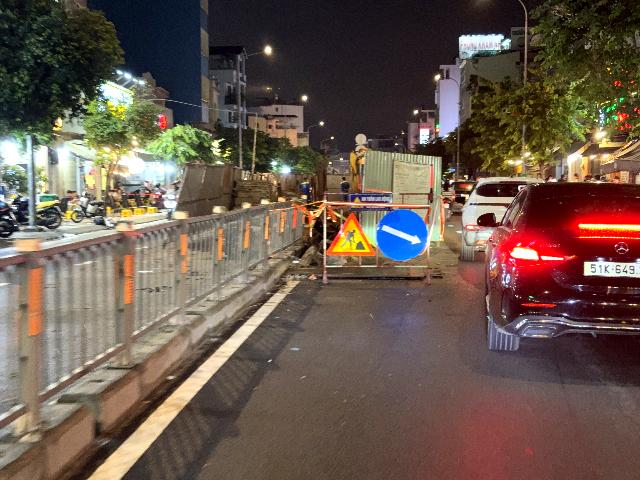cong-truong-dang-thi-cong: (326, 213, 375, 256)
huong-phai-di-vong-chuong-ngai-vat: (376, 210, 427, 260)
